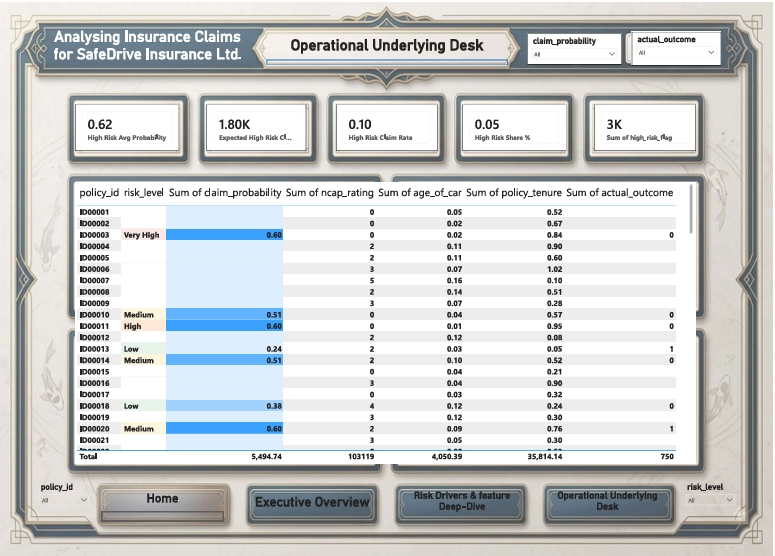

The dashboard page shown, as its layout file describes it:
{"tool":"powerbi","page":{"name":"Operational Underlying  Desk","canvas":[1900,1360],"ordinal":2},"visuals":[{"type":"cardVisual","fields":{"Data":["all_predictions_bi_analysis.High Risk Avg Probability"]},"box":[184.6,249.9,255.6,113.6],"z":0},{"type":"cardVisual","fields":{"Data":["all_predictions_bi_analysis.Expected High Risk Claims"]},"box":[508.4,249.9,244.2,113.6],"z":1000},{"type":"cardVisual","fields":{"Data":["all_predictions_bi_analysis.High Risk Claim Rate"]},"box":[826.5,249.9,249.9,113.6],"z":2000},{"type":"cardVisual","fields":{"Data":["all_predictions_bi_analysis.High Risk Share %"]},"box":[1136,249.9,255.6,113.6],"z":3000},{"type":"cardVisual","fields":{"Data":["Sum(all_predictions_bi_analysis.high_risk_flag)"]},"box":[1459.8,249.9,249.9,113.6],"z":4000},{"type":"tableEx","fields":{"Values":["all_predictions_bi_analysis.policy_id","all_predictions_bi_analysis.risk_level","Sum(all_predictions_bi_analysis.claim_probability)","Sum(all_predictions_bi_analysis.ncap_rating)","Sum(all_predictions_bi_analysis.age_of_car)","Sum(all_predictions_bi_analysis.policy_tenure)","Sum(all_predictions_bi_analysis.actual_outcome)"]},"box":[184.7,441.7,1523.3,690.7],"z":5000},{"type":"actionButton","title":"Executive Overview","box":[619.1,1207,298.2,56.8],"z":6000},{"type":"actionButton","title":"Risk Drivers & feature Deep-Dive","box":[982.7,1195.7,306.7,76.7],"z":7000},{"type":"actionButton","title":"Home","box":[249.9,1198.5,299.8,75],"z":8000},{"type":"actionButton","title":"Operational Underlying  Desk","box":[1343.3,1195.7,299.8,75],"z":9000},{"type":"shape","title":"Operational Underlying  Desk","box":[656.1,82.4,590.7,71],"z":10000},{"type":"slicer","fields":{"Values":["all_predictions_bi_analysis.policy_id"]},"box":[88,1172,142,78],"z":11000},{"type":"slicer","fields":{"Values":["all_predictions_bi_analysis.claim_probability"]},"box":[1296,76,232,76],"z":12000},{"type":"slicer","fields":{"Values":["all_predictions_bi_analysis.risk_level"]},"box":[1676,1172,140,82],"z":13000},{"type":"slicer","fields":{"Values":["all_predictions_bi_analysis.actual_outcome"]},"box":[1552.8,72.3,219.5,83],"z":14000},{"type":"shape","title":"Analysing Insurance Claims for SafeDrive Insurance Ltd.","box":[107,61,512,90],"z":15000}]}

Visuals, with their boxes in screenshot pixels (x1, y1, x2, y2), scaled from the page's 1900x1360 canvas onto the 775x556 screenshot:
cardVisual - all_predictions_bi_analysis.High Risk Avg Probability: l=75, t=102, r=180, b=149
cardVisual - all_predictions_bi_analysis.Expected High Risk Claims: l=207, t=102, r=307, b=149
cardVisual - all_predictions_bi_analysis.High Risk Claim Rate: l=337, t=102, r=439, b=149
cardVisual - all_predictions_bi_analysis.High Risk Share %: l=463, t=102, r=568, b=149
cardVisual - Sum(all_predictions_bi_analysis.high_risk_flag): l=595, t=102, r=697, b=149
tableEx - all_predictions_bi_analysis.policy_id x all_predictions_bi_analysis.risk_level: l=75, t=181, r=697, b=463
"Executive Overview" actionButton: l=253, t=493, r=374, b=517
"Risk Drivers & feature Deep-Dive" actionButton: l=401, t=489, r=526, b=520
"Home" actionButton: l=102, t=490, r=224, b=521
"Operational Underlying  Desk" actionButton: l=548, t=489, r=670, b=519
"Operational Underlying  Desk" shape: l=268, t=34, r=509, b=63
slicer - all_predictions_bi_analysis.policy_id: l=36, t=479, r=94, b=511
slicer - all_predictions_bi_analysis.claim_probability: l=529, t=31, r=623, b=62
slicer - all_predictions_bi_analysis.risk_level: l=684, t=479, r=741, b=513
slicer - all_predictions_bi_analysis.actual_outcome: l=633, t=30, r=723, b=63
"Analysing Insurance Claims for SafeDrive Insurance Ltd." shape: l=44, t=25, r=252, b=62
